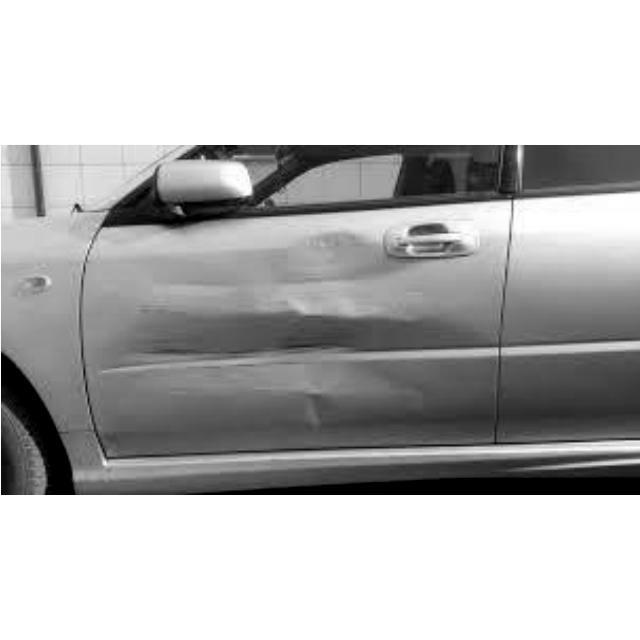doorouter-dent: (123, 226, 458, 443)
